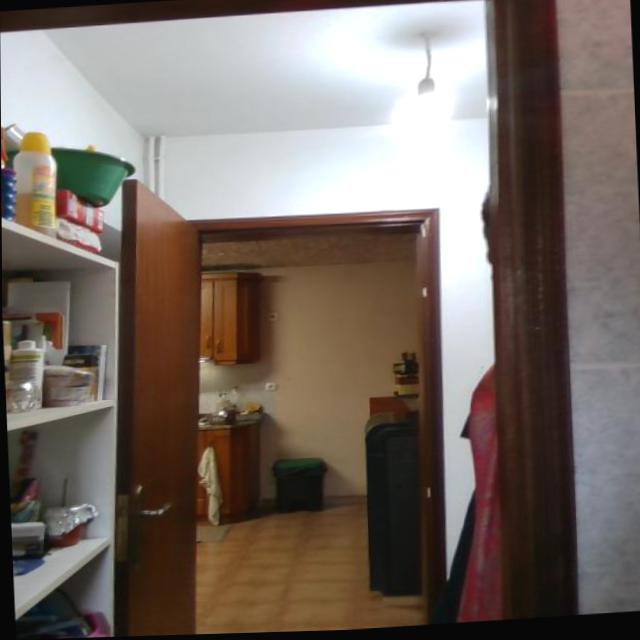open: (85, 143, 470, 637)
